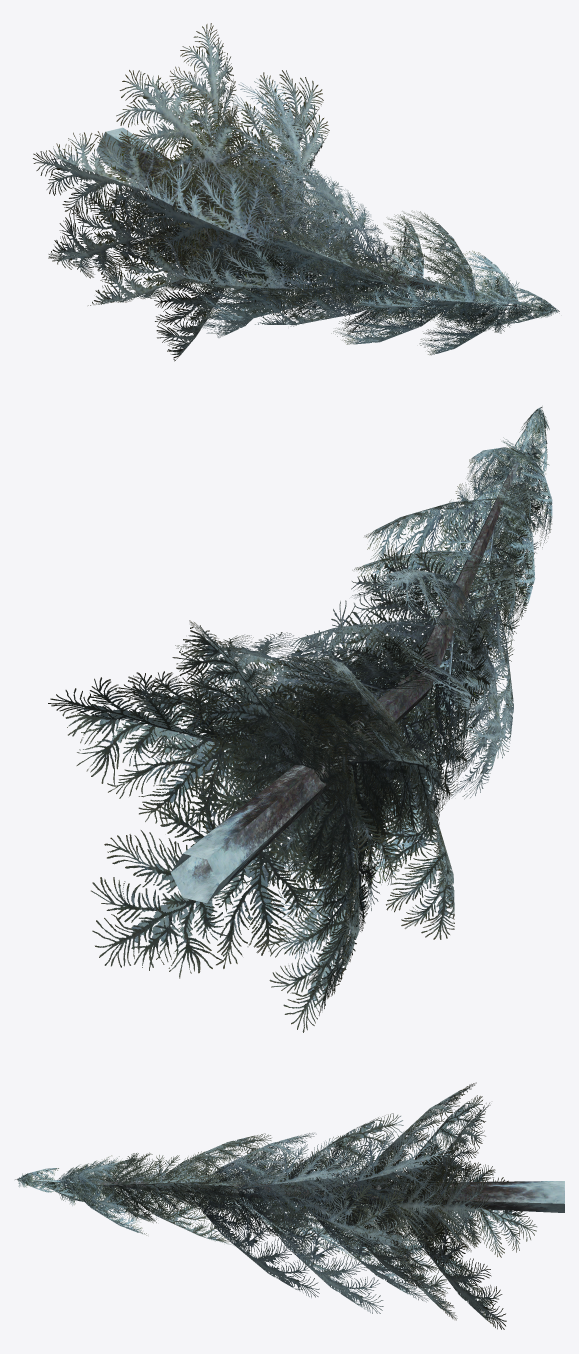
The model's file is huodong_fuben_421_rsshulin_shu02.obj.
3 renders of one model, top to bottom at view 1: azimuth 30°, elevation 25°; view 2: azimuth 150°, elevation 25°; view 3: azimuth 270°, elevation 25°, orthographic. The views are drawn at different scales.
Parts seen in each view (by area): view 1: huodong_fuben_421_rsshulin_shu02; view 2: huodong_fuben_421_rsshulin_shu02; view 3: huodong_fuben_421_rsshulin_shu02.
Part boxes in pixels (x1=…): huodong_fuben_421_rsshulin_shu02: x1=33, y1=23, x2=559, y2=361; huodong_fuben_421_rsshulin_shu02: x1=48, y1=406, x2=552, y2=1032; huodong_fuben_421_rsshulin_shu02: x1=15, y1=1082, x2=564, y2=1329.
Bounding box in the file's own units: 216 × 216 × 421.
Materials: 6 (6 with a texture image).
